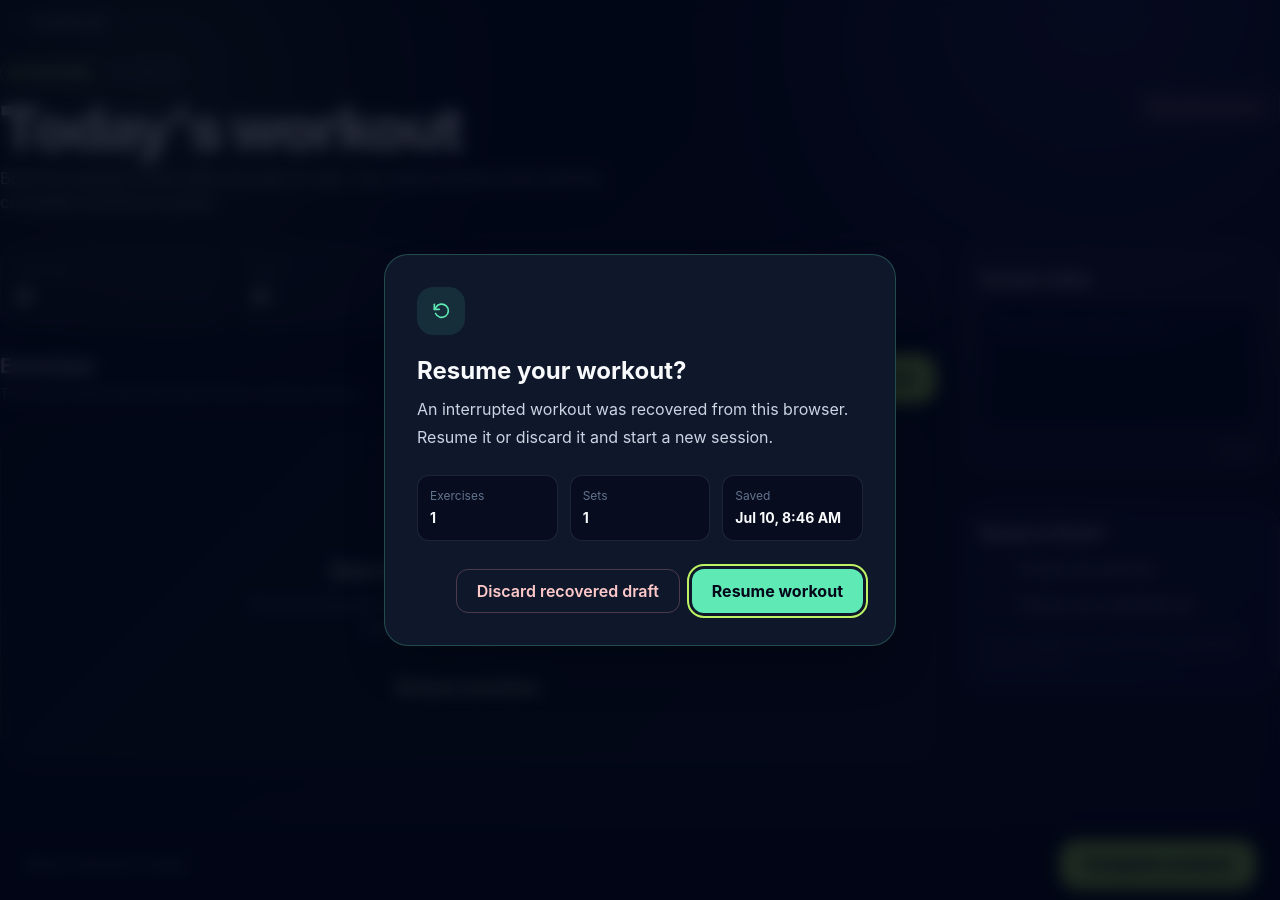
Test: ActiveWorkoutScreen › discards a recovered draft explicitly
The image size is (1280, 900).
Click the button "Discard recovered draft" at (568, 591), box [456,569,680,613]
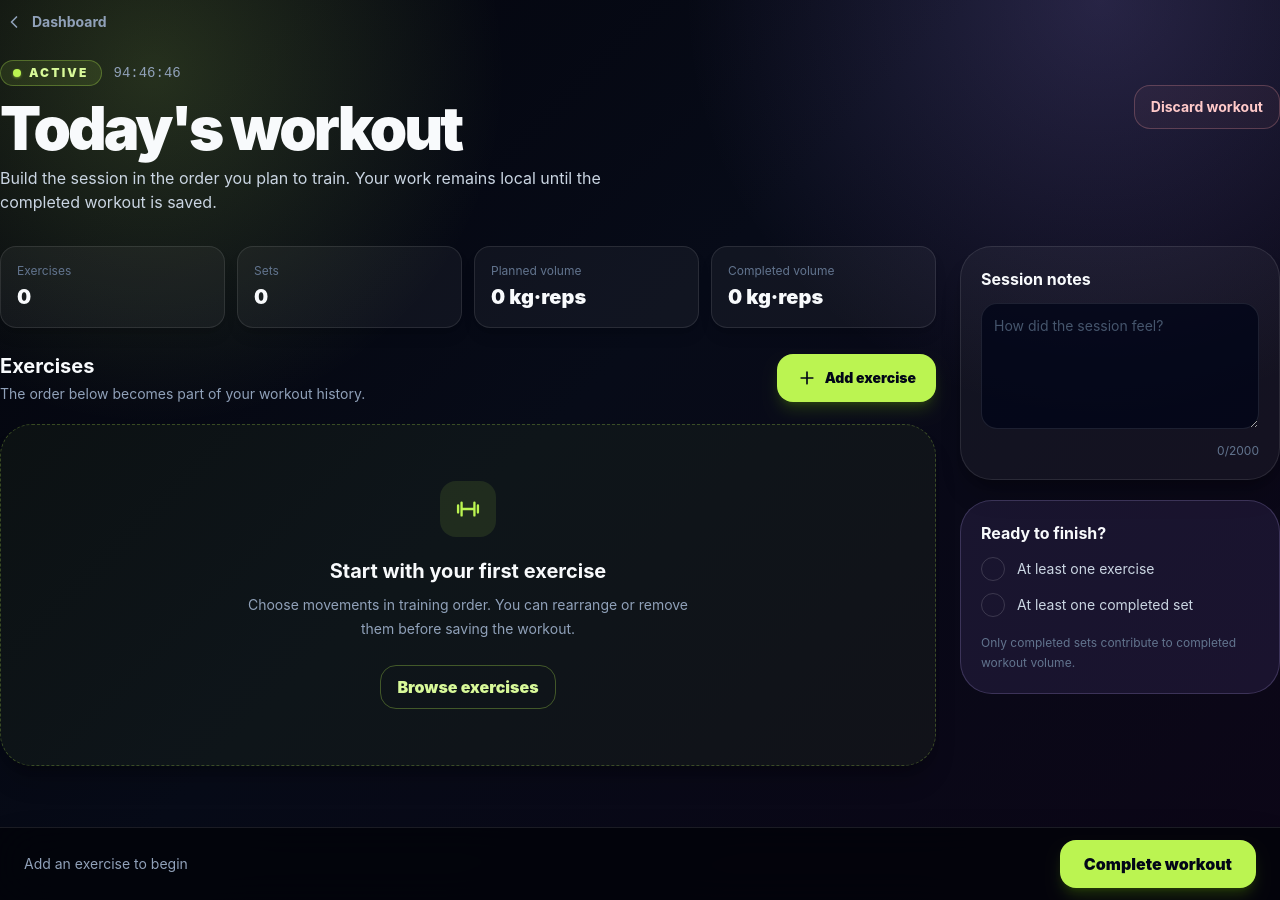
Expected: the heading "Start with your first exercise" is shown, [330,559,606,583]
Result: the dialog is gone
